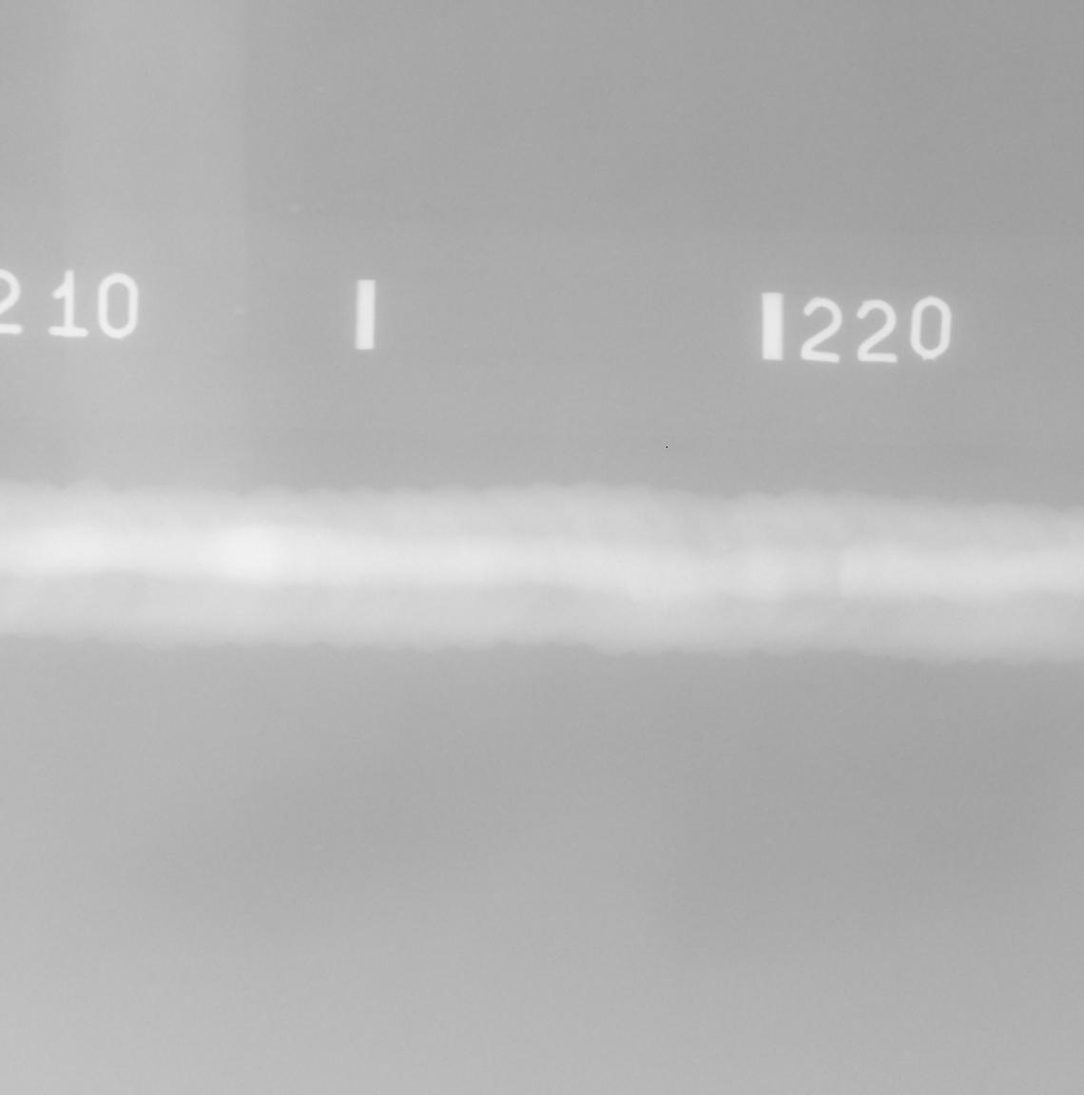Pore/Porosity: (391, 590, 397, 596)
